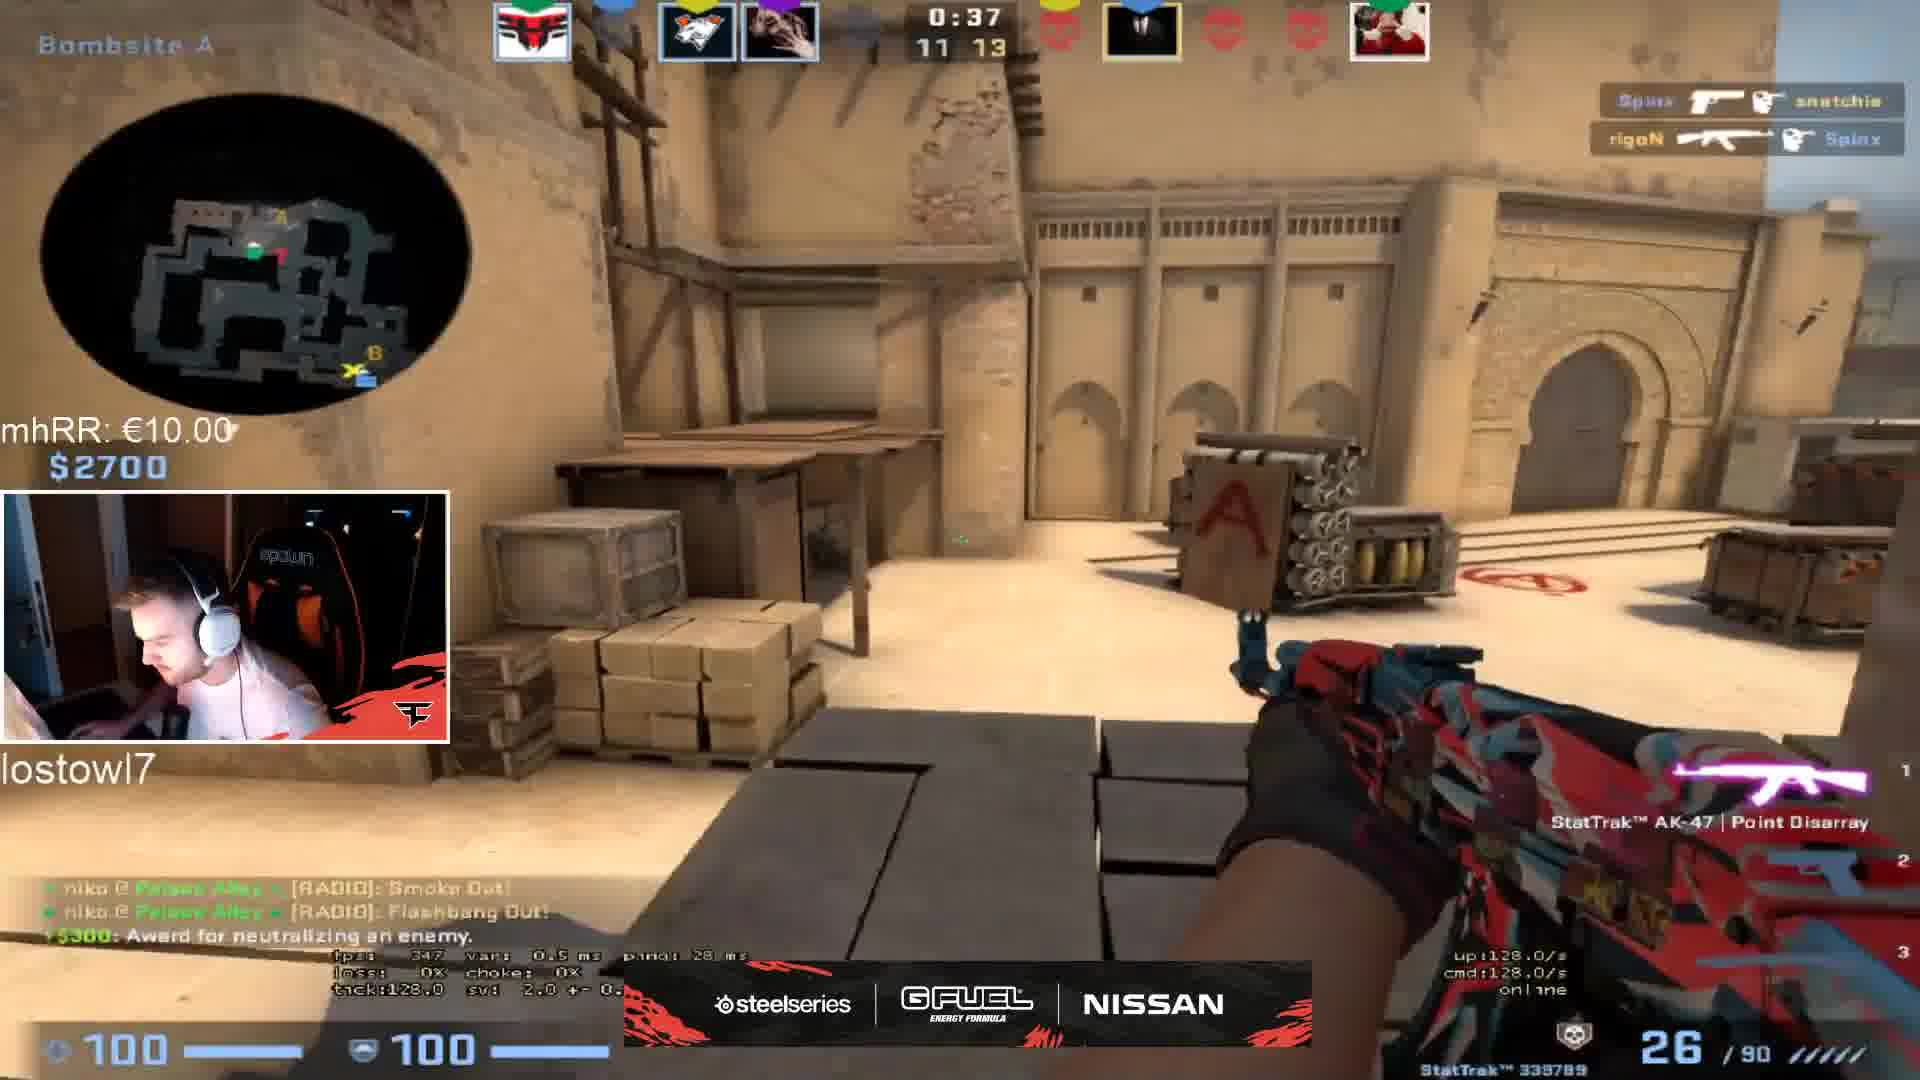enemy: (804, 522, 861, 591)
